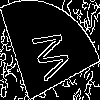W: (25, 24, 72, 87)
